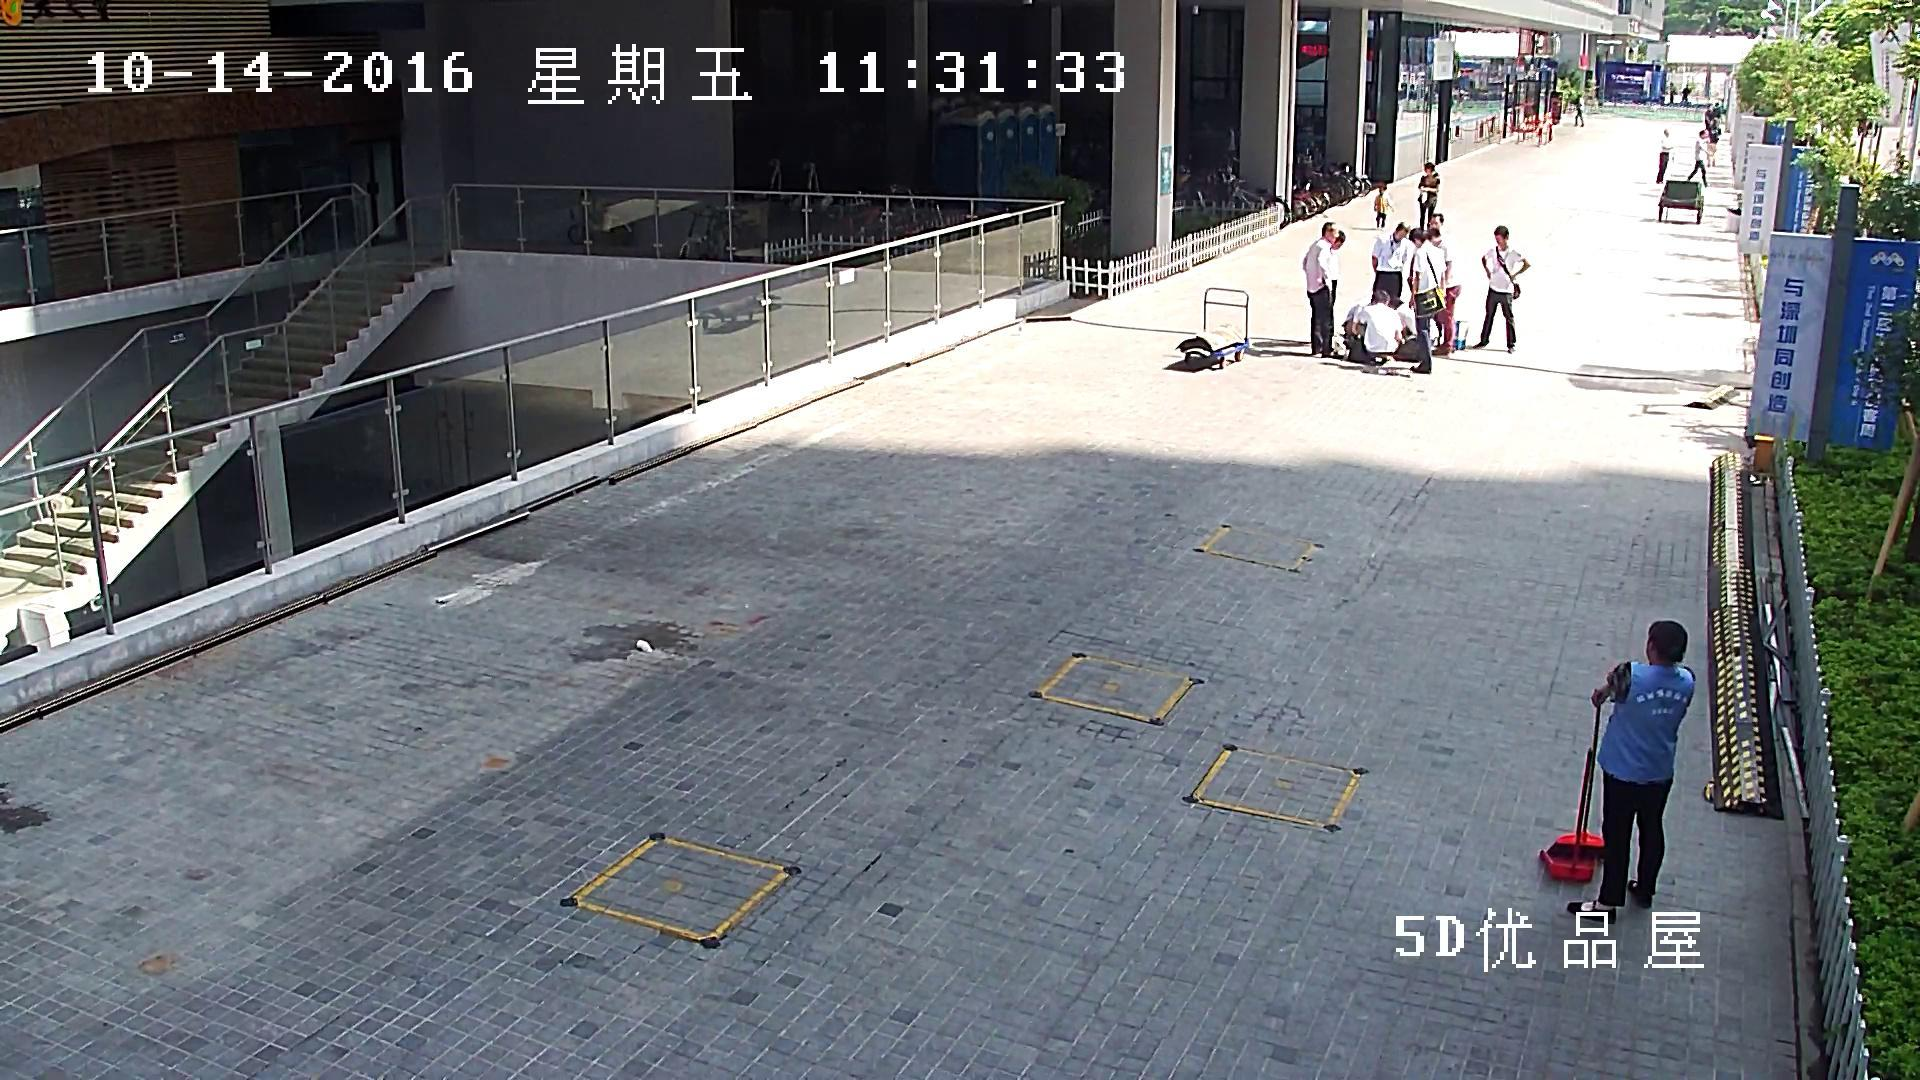person: (1538, 619, 1697, 924), (1567, 619, 1696, 924), (1471, 225, 1530, 353), (1410, 226, 1445, 374), (1302, 222, 1337, 358), (1428, 227, 1460, 355), (1358, 289, 1404, 366), (1391, 296, 1440, 363), (1371, 222, 1408, 303), (1417, 162, 1440, 229), (1686, 129, 1712, 187), (1654, 128, 1676, 183), (1331, 230, 1345, 306), (1373, 183, 1393, 228), (1704, 103, 1719, 143), (1573, 94, 1584, 127), (1681, 84, 1692, 108), (1713, 102, 1720, 129), (1669, 81, 1675, 104)
